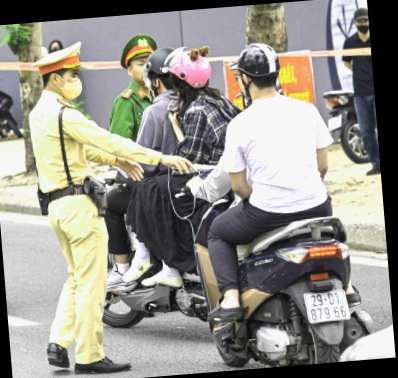Bien-so: (301, 287, 353, 326)
